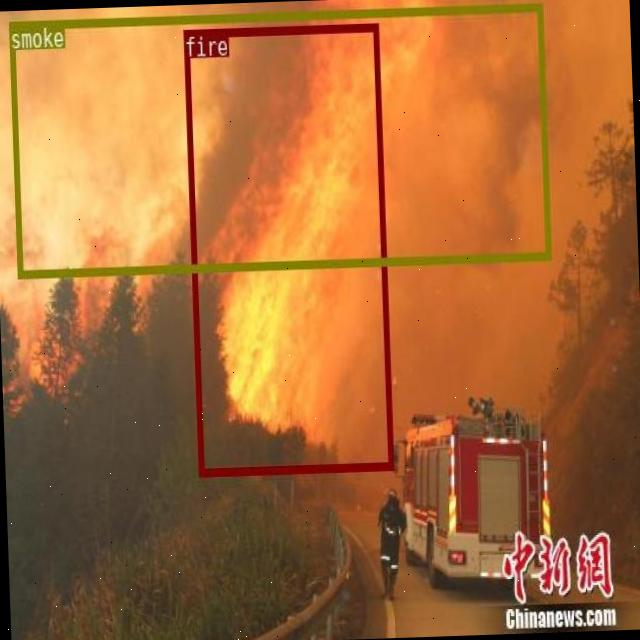fire: (182, 21, 392, 474)
smoke: (7, 2, 550, 276)
